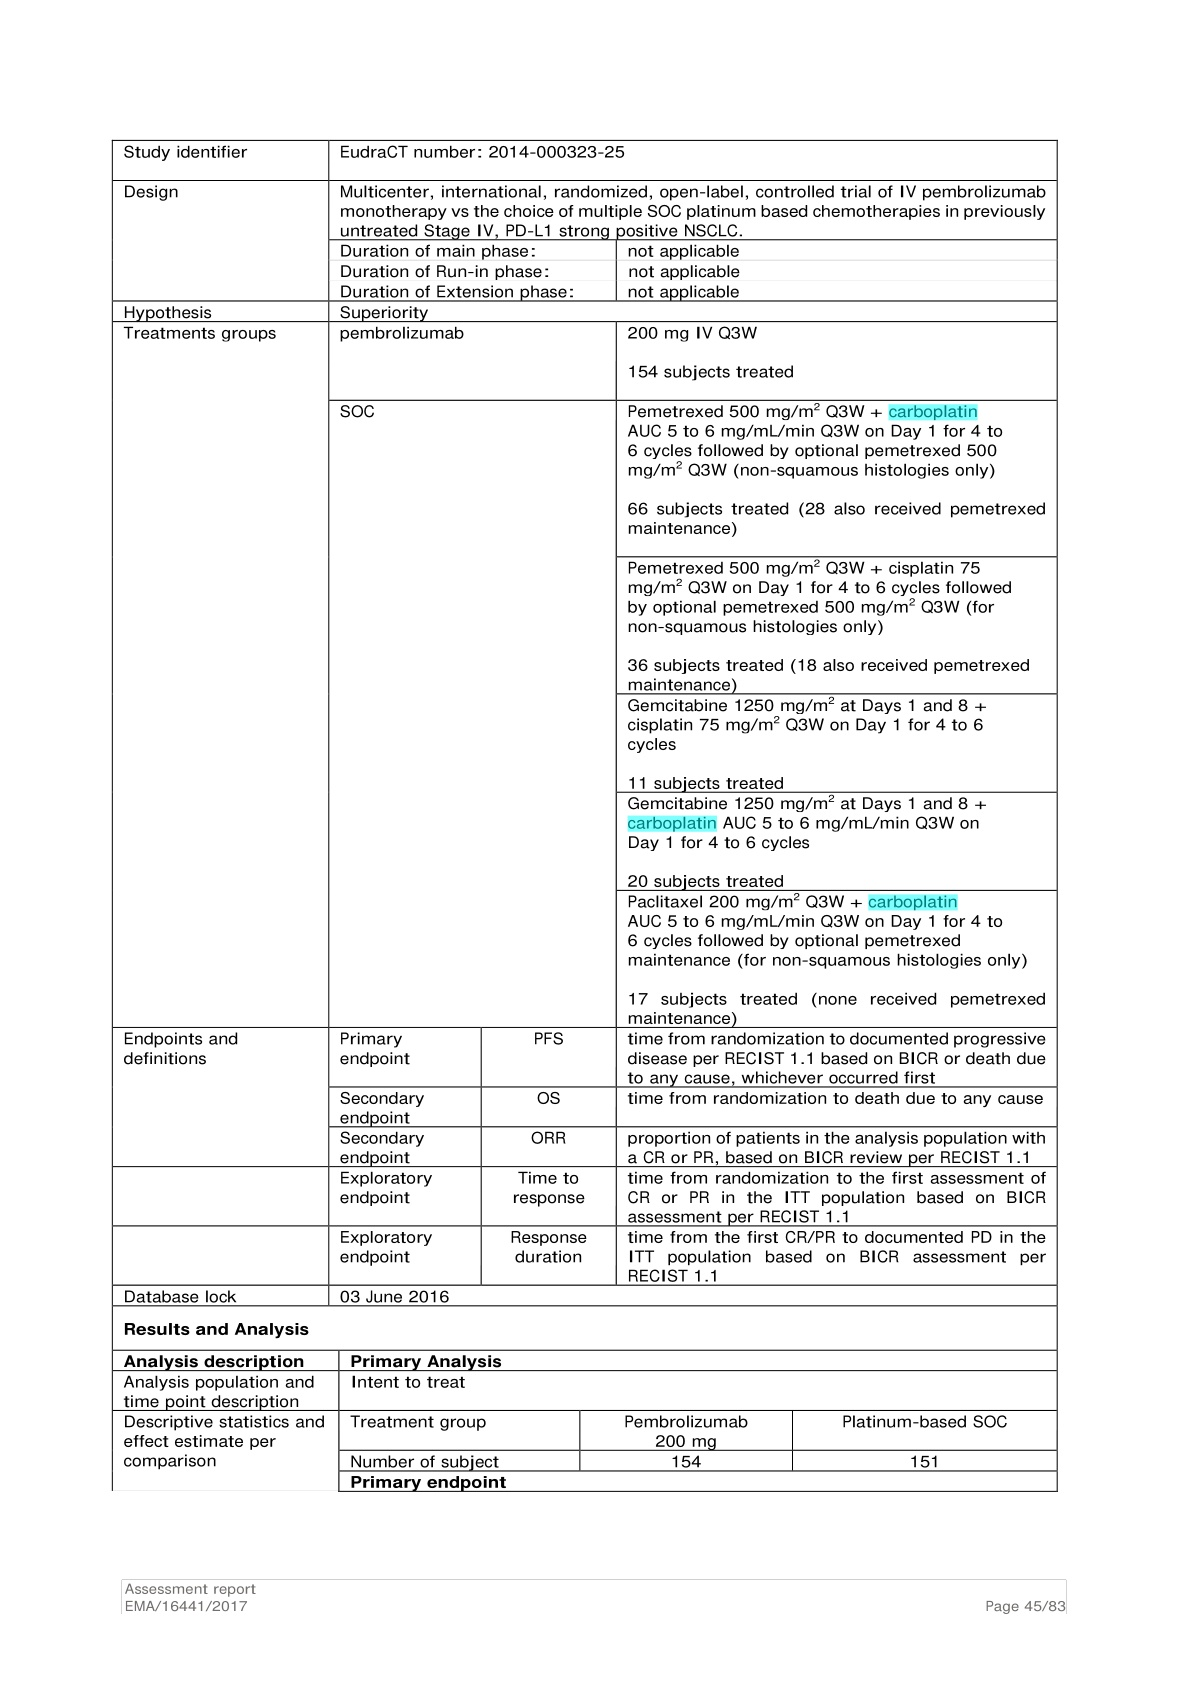merged_cells: (111, 138, 1059, 1491)
